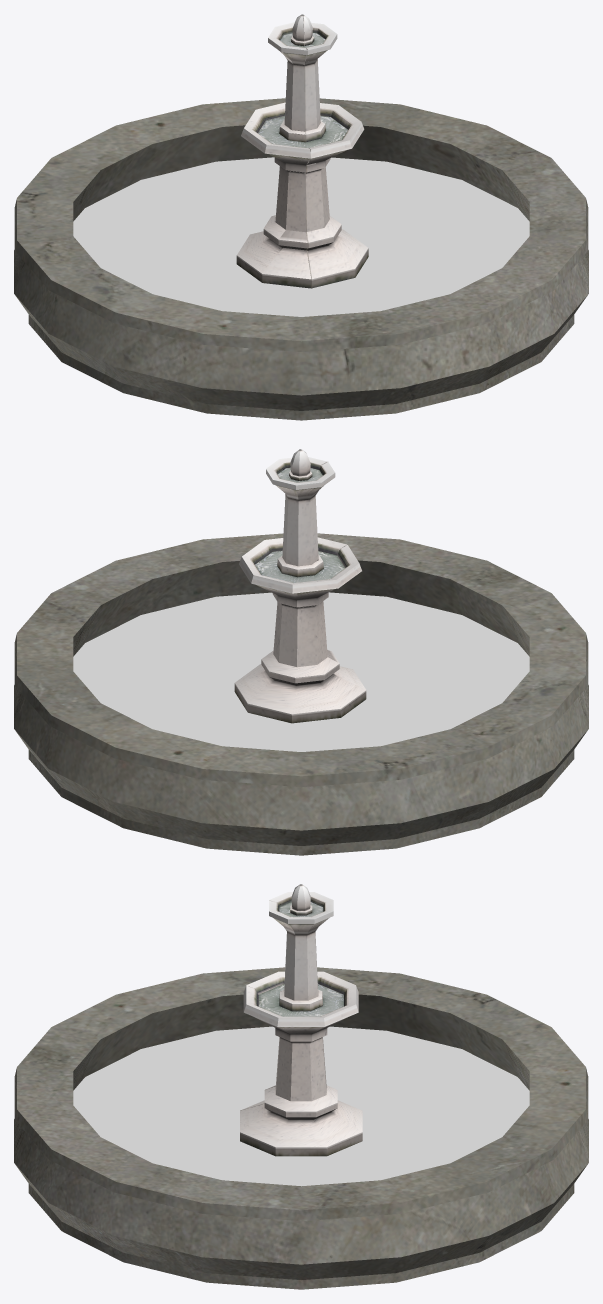
The model's file is fountane.fbx.
3 views of the same model, one above another, from view 1: azimuth 30°, elevation 25°; view 2: azimuth 150°, elevation 25°; view 3: azimuth 270°, elevation 25° (orthographic).
Visible parts, largest first — view 1: Object002_Material #3_0; view 2: Object002_Material #3_0; view 3: Object002_Material #3_0.
Part boxes in pixels (x1,y1,x2,y2): Object002_Material #3_0: (14, 14, 588, 420); Object002_Material #3_0: (14, 449, 588, 855); Object002_Material #3_0: (14, 884, 588, 1289).
Size of the model in its own units: 3687 by 2008 by 3631.
